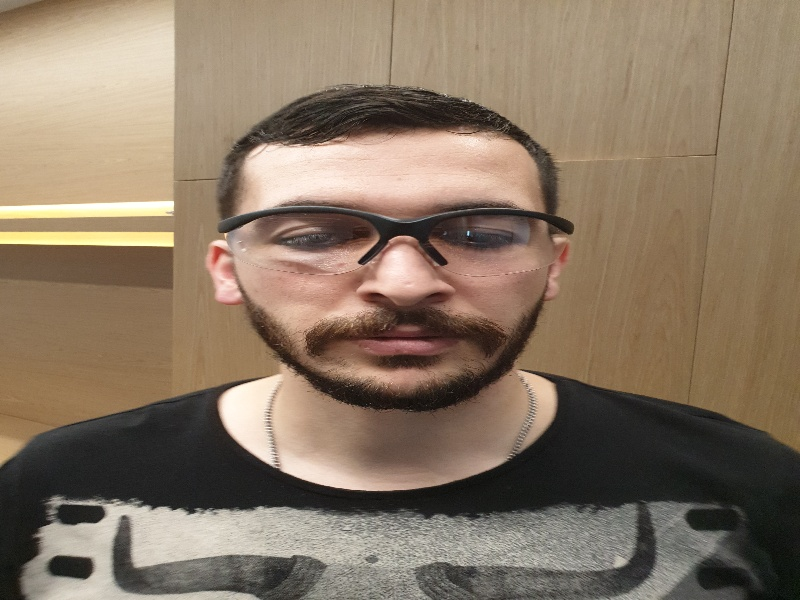Gozluk: (220, 211, 575, 269)
